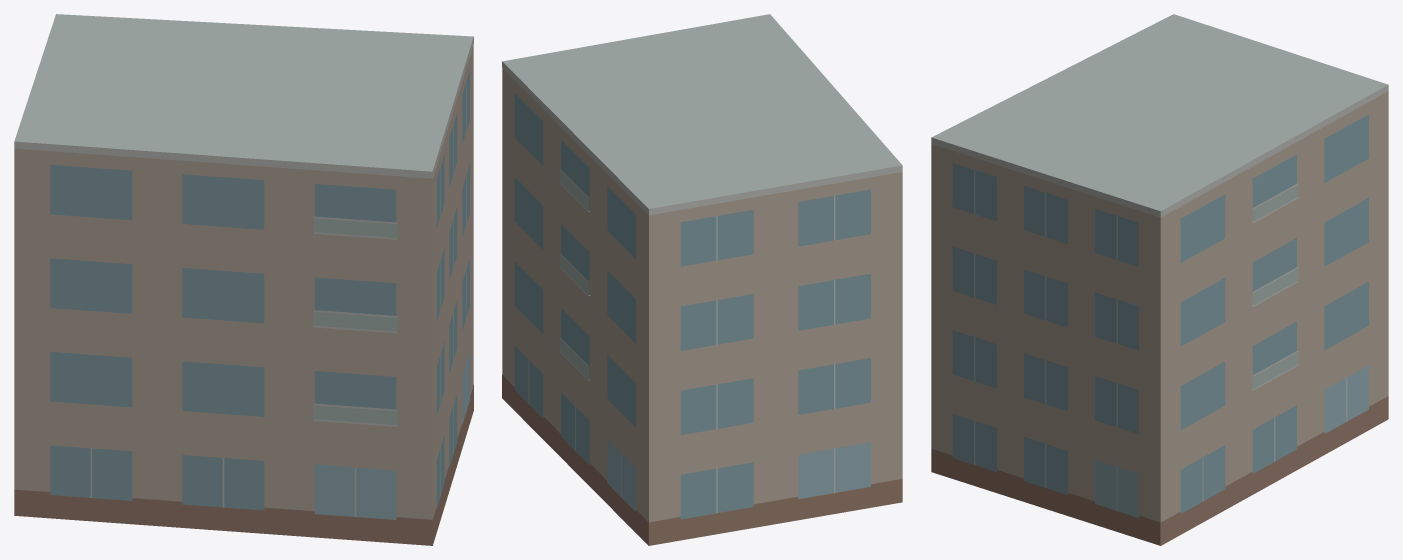
File: survey-upis-33009206.glb
3 renders of one model, left to right at view 1: azimuth 30°, elevation 25°; view 2: azimuth 150°, elevation 25°; view 3: azimuth 270°, elevation 25°, orthographic. The views are drawn at different scales.
Visible parts, largest first — view 1: survey-upis-33009206.tmp; view 2: survey-upis-33009206.tmp; view 3: survey-upis-33009206.tmp.
Part boxes in pixels (x1,y1,x2,y2): survey-upis-33009206.tmp: [14, 14, 473, 545]; survey-upis-33009206.tmp: [502, 14, 902, 545]; survey-upis-33009206.tmp: [931, 14, 1388, 545].
Bounding box in the file's own units: 16.32 × 12.9 × 15.98.
